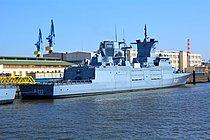MIL_Ship: (20, 27, 193, 98)
